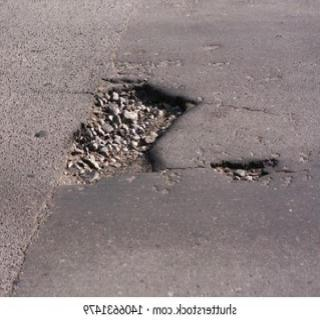pothole: (68, 80, 202, 182), (211, 160, 278, 182)
